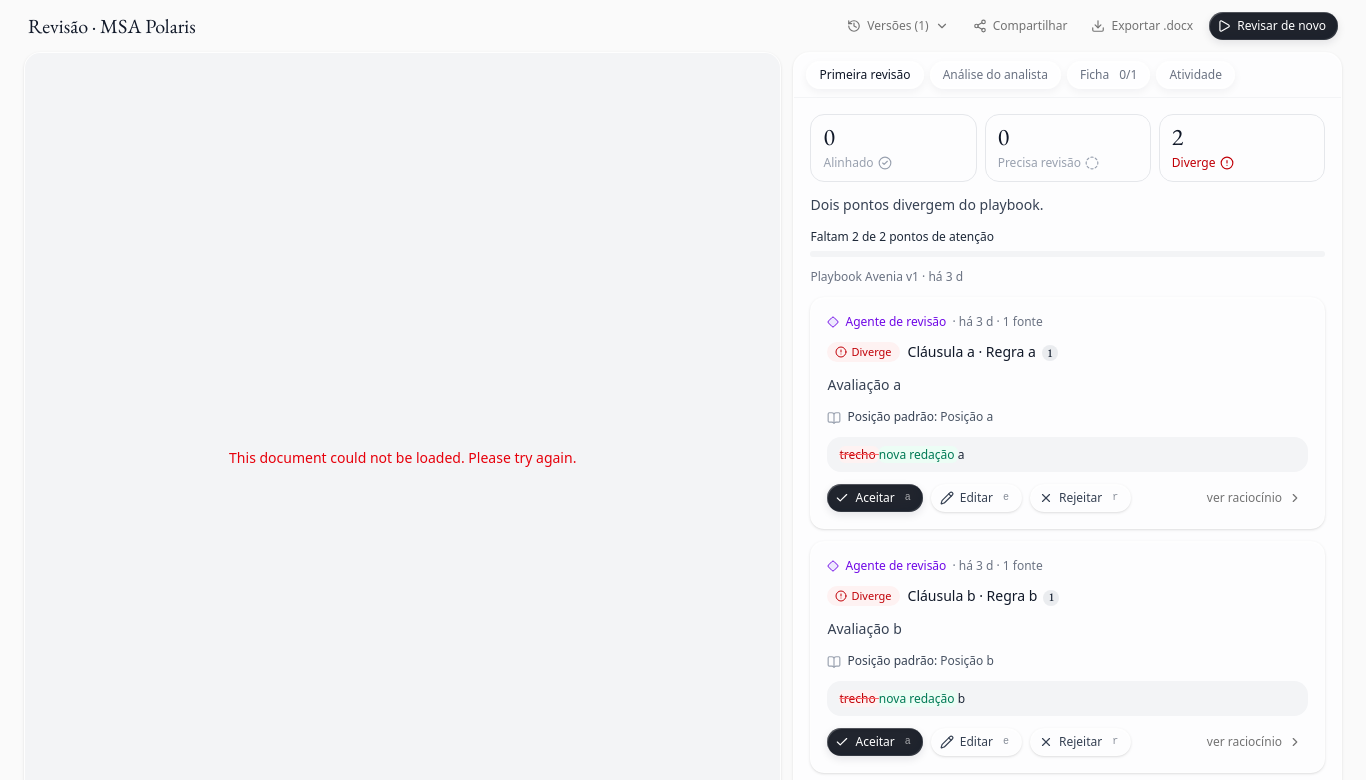
ContractReviewWorkspace › hands the next point the focus, and leaves the decided card without a decision button
Step 1. Click the 4th button named "Aceitar" → (875, 498), box left=828, top=484, right=923, bottom=512
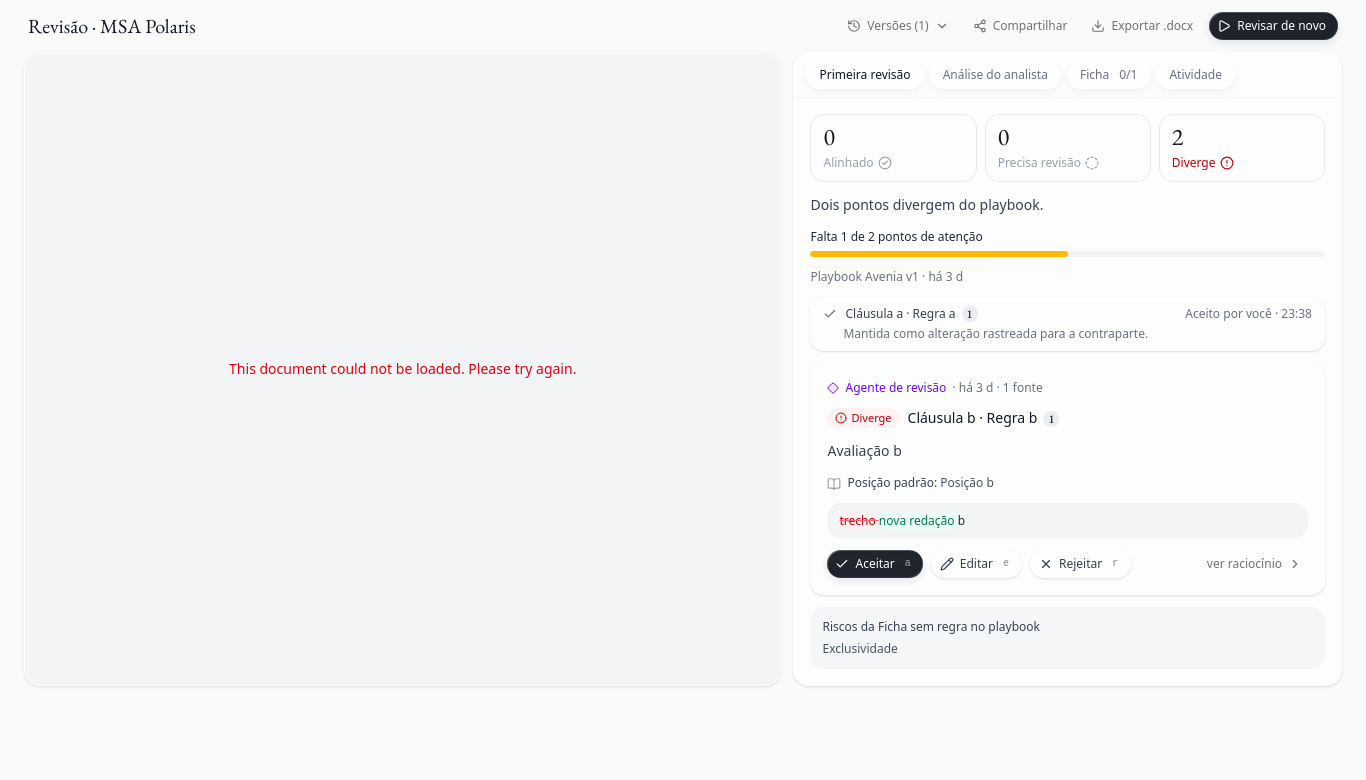
Expected: the button with aria-label "Reabrir: Aceito" is shown, left=824, top=306, right=1312, bottom=322
